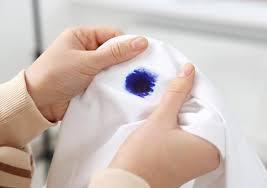ink: (125, 70, 158, 96)
